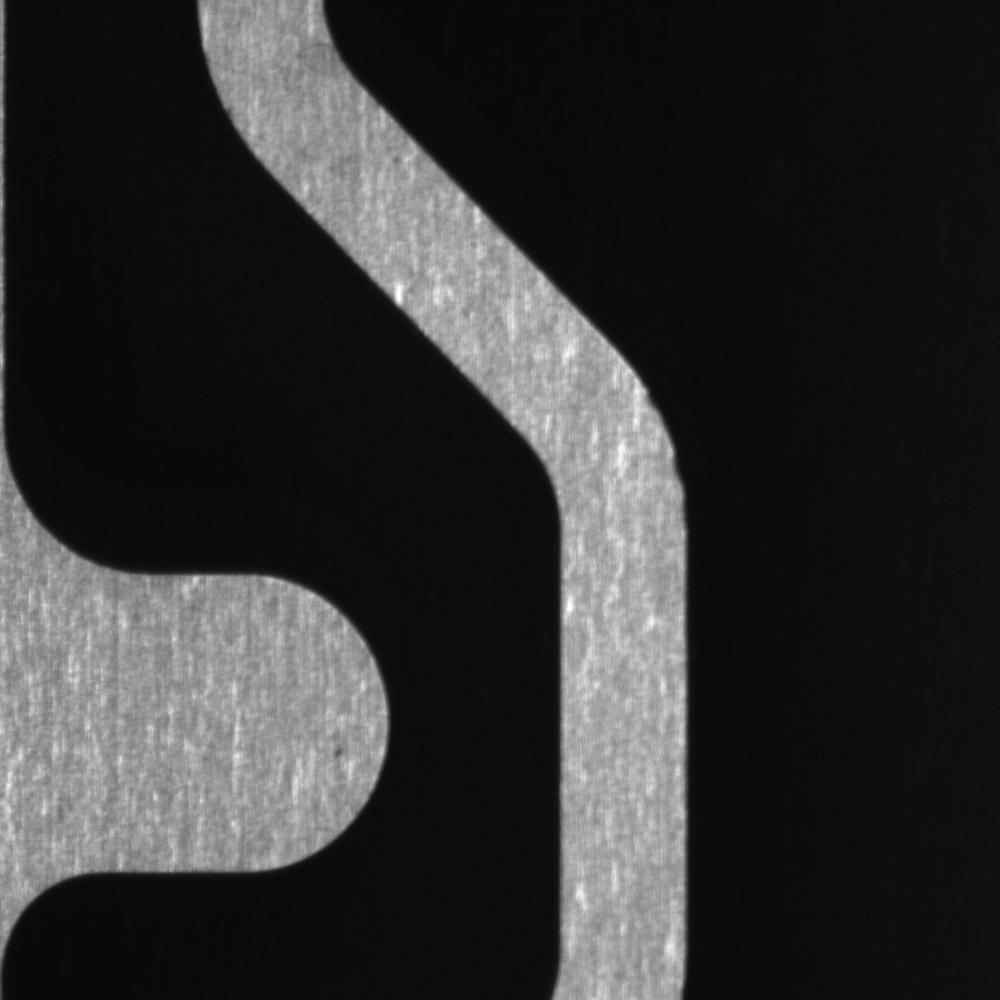Etching: (319, 725, 365, 777)
